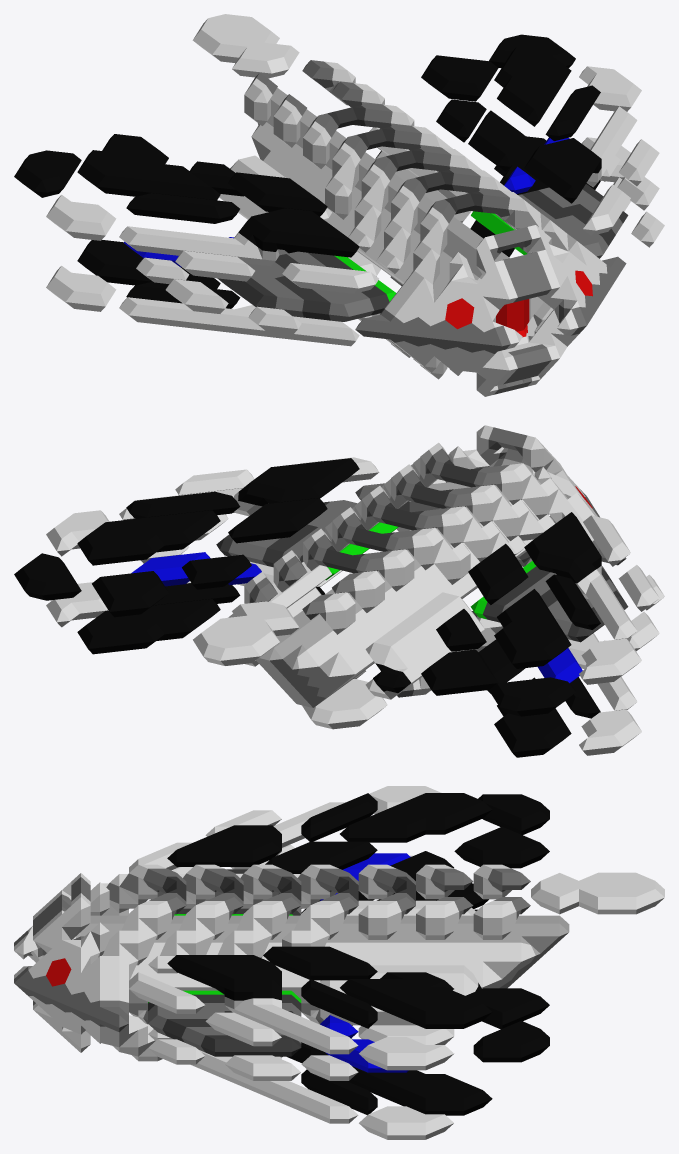
File: ship_khaled_fighter_heavy.fbx
3 renders of one model, top to bottom at view 1: azimuth 30°, elevation 25°; view 2: azimuth 150°, elevation 25°; view 3: azimuth 270°, elevation 25°, orthographic. The views are drawn at different scales.
Visible parts, largest first — view 1: ship_khaled_fighter_heavy; view 2: ship_khaled_fighter_heavy; view 3: ship_khaled_fighter_heavy.
Boxes of the visible parts, left/top/right/bottom form: ship_khaled_fighter_heavy: left=14, top=14, right=664, bottom=396; ship_khaled_fighter_heavy: left=14, top=425, right=664, bottom=757; ship_khaled_fighter_heavy: left=14, top=786, right=664, bottom=1139.
Size of the model in its own units: 3400 by 900 by 3400.
